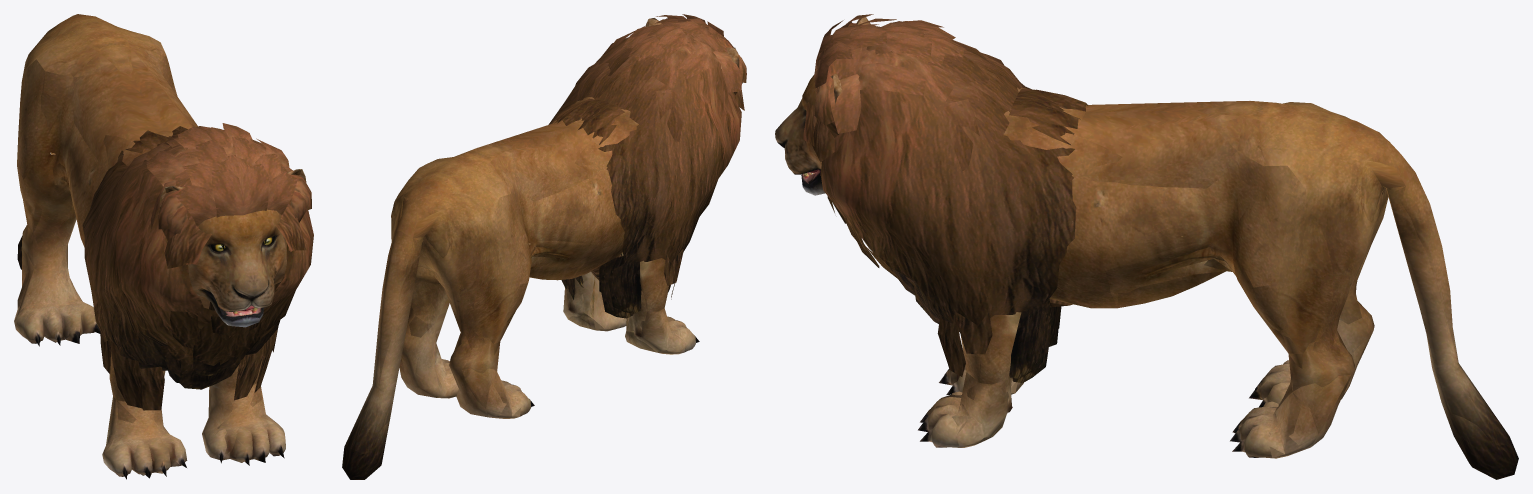
File: Lion.fbx
3 renders of one model, left to right at view 1: azimuth 30°, elevation 25°; view 2: azimuth 150°, elevation 25°; view 3: azimuth 270°, elevation 25°, orthographic. The views are drawn at different scales.
Visible parts, largest first — view 1: skpAEA2_1; view 2: skpAEA2_1; view 3: skpAEA2_1.
Part boxes in pixels (bbox=[...]): skpAEA2_1: bbox=[14, 14, 313, 479]; skpAEA2_1: bbox=[342, 14, 746, 479]; skpAEA2_1: bbox=[775, 14, 1518, 479].
Bounding box in the file's own units: 0.9014 × 1.42 × 2.39.
